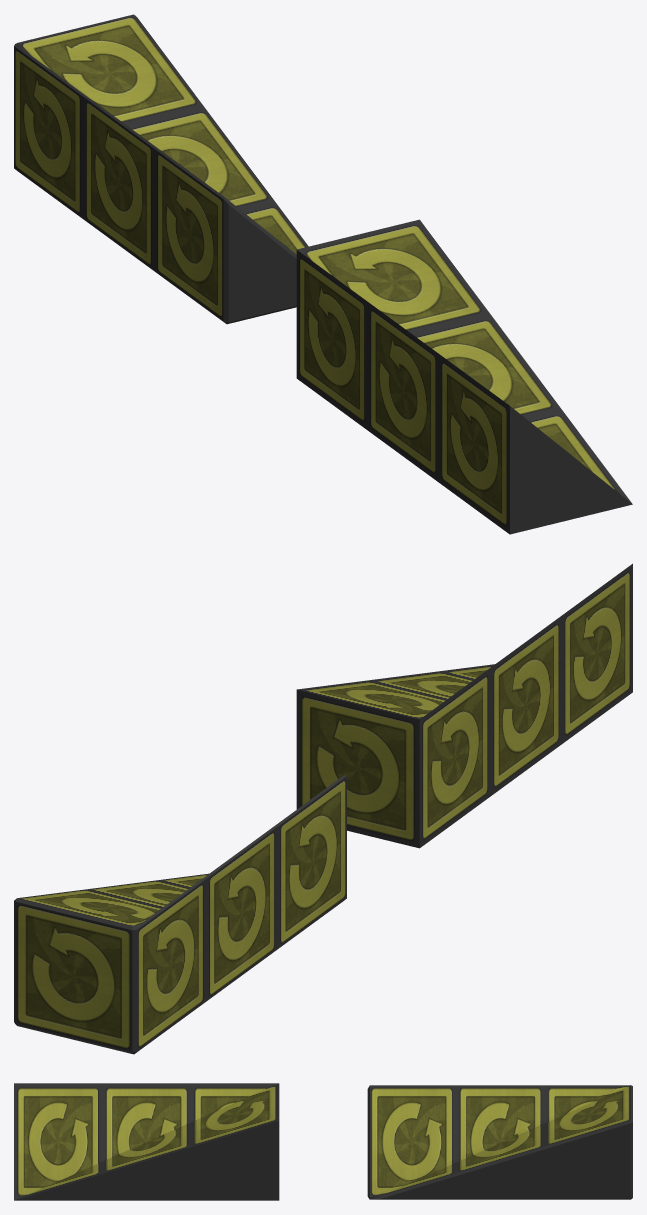
File: slope.insideCorner.1x3.fbx
3 views of the same model, one above another, from view 1: azimuth 30°, elevation 25°; view 2: azimuth 150°, elevation 25°; view 3: azimuth 270°, elevation 25° (orthographic). The views are drawn at different scales.
Parts seen in each view (by area): view 1: MESH slope.insideCorner.1x3, MESH slope.insideCorner.1x3.c; view 2: MESH slope.insideCorner.1x3.c, MESH slope.insideCorner.1x3; view 3: MESH slope.insideCorner.1x3, MESH slope.insideCorner.1x3.c.
Part boxes in pixels (bbox=[...]): MESH slope.insideCorner.1x3: bbox=[296, 219, 632, 534]; MESH slope.insideCorner.1x3.c: bbox=[14, 14, 308, 324]; MESH slope.insideCorner.1x3.c: bbox=[14, 774, 346, 1054]; MESH slope.insideCorner.1x3: bbox=[296, 563, 632, 848]; MESH slope.insideCorner.1x3: bbox=[14, 1083, 279, 1200]; MESH slope.insideCorner.1x3.c: bbox=[367, 1085, 632, 1199].
Size of what is drawn, in the model's own units: 100 by 100 by 700.
